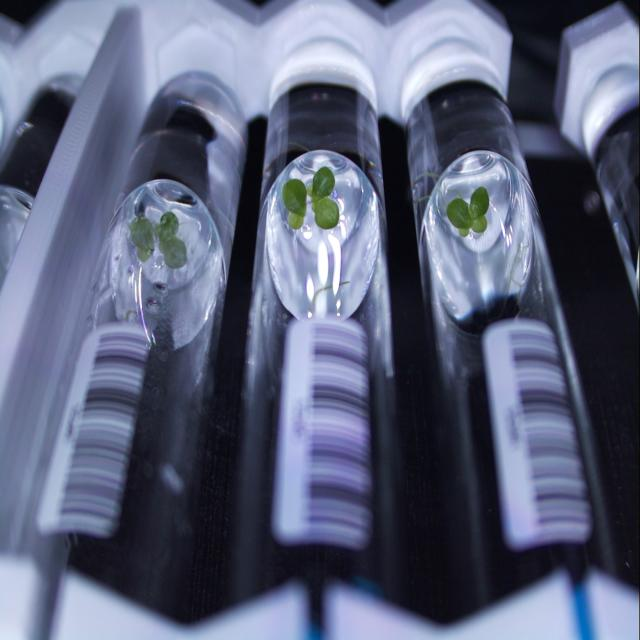Lemna-Gibba: (282, 167, 340, 228), (130, 217, 154, 262), (159, 235, 188, 269), (282, 178, 306, 217), (154, 212, 179, 242), (446, 198, 471, 228), (312, 167, 335, 198), (469, 187, 489, 218), (471, 215, 488, 233), (288, 212, 304, 230), (459, 227, 470, 237)
